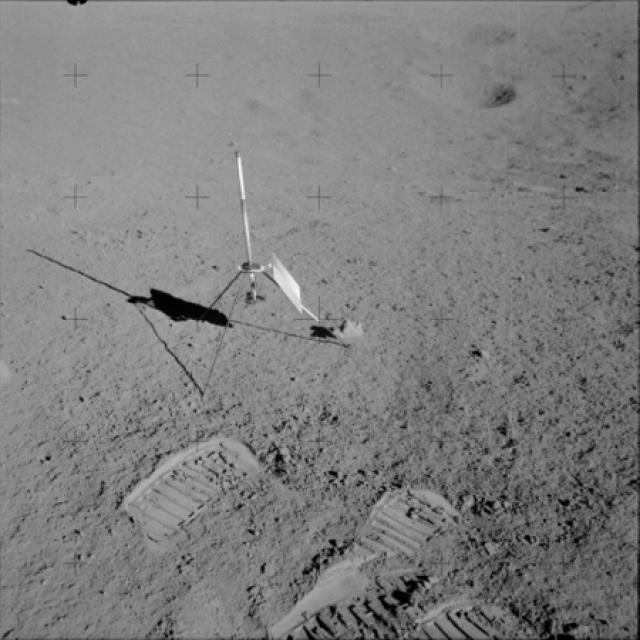crater: (405, 65, 528, 123), (452, 17, 526, 58)
